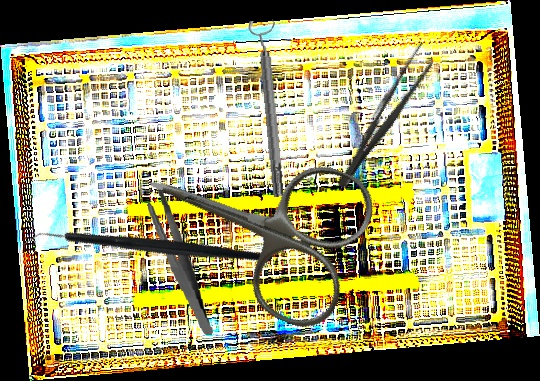Chopper: (21, 153, 274, 347)
Dressing Forceps: (329, 39, 442, 195), (145, 184, 214, 340)
Fixation Ring: (247, 19, 292, 198)
Iris Scissors: (120, 106, 384, 338)
